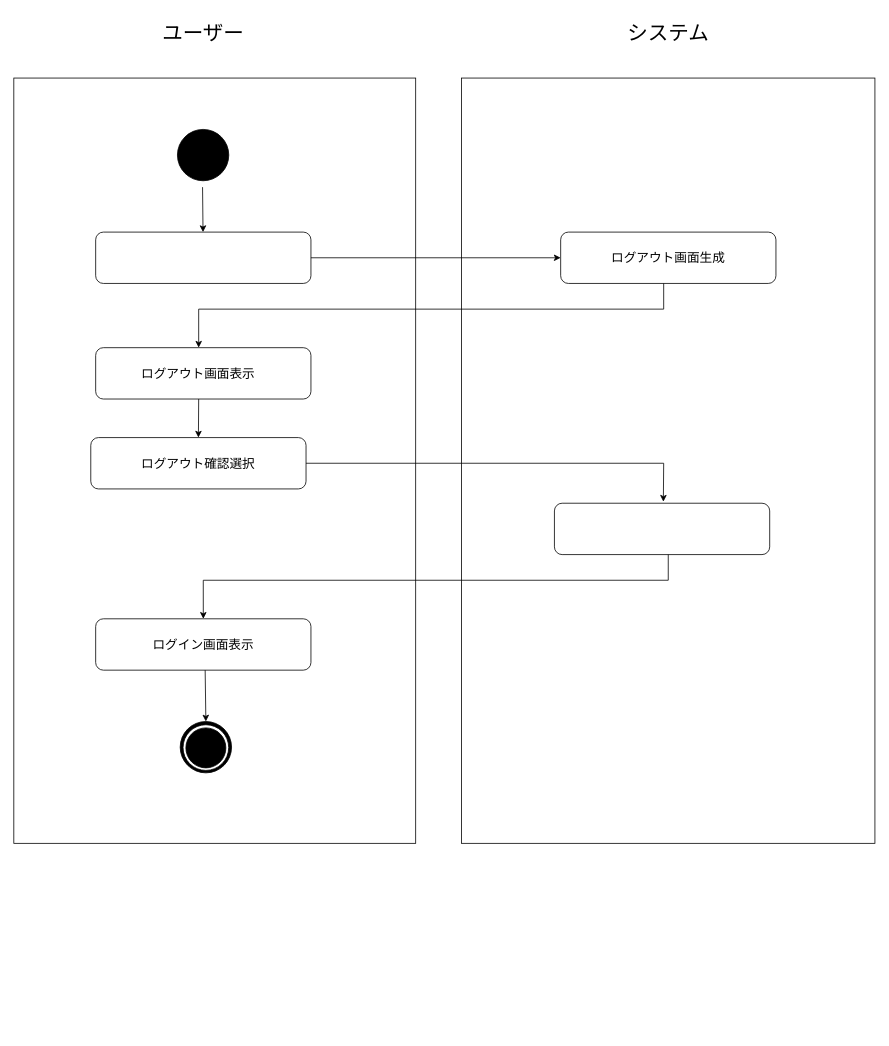
The diagram is 889 pixels wide and 1046 high, and some of its shapes have lost their labels. Here are the shapes that lost their labels. From the top down, the box of each, then its label:
(95, 231, 311, 283): ログアウト選択
(554, 502, 770, 555): ログイン画面生成
